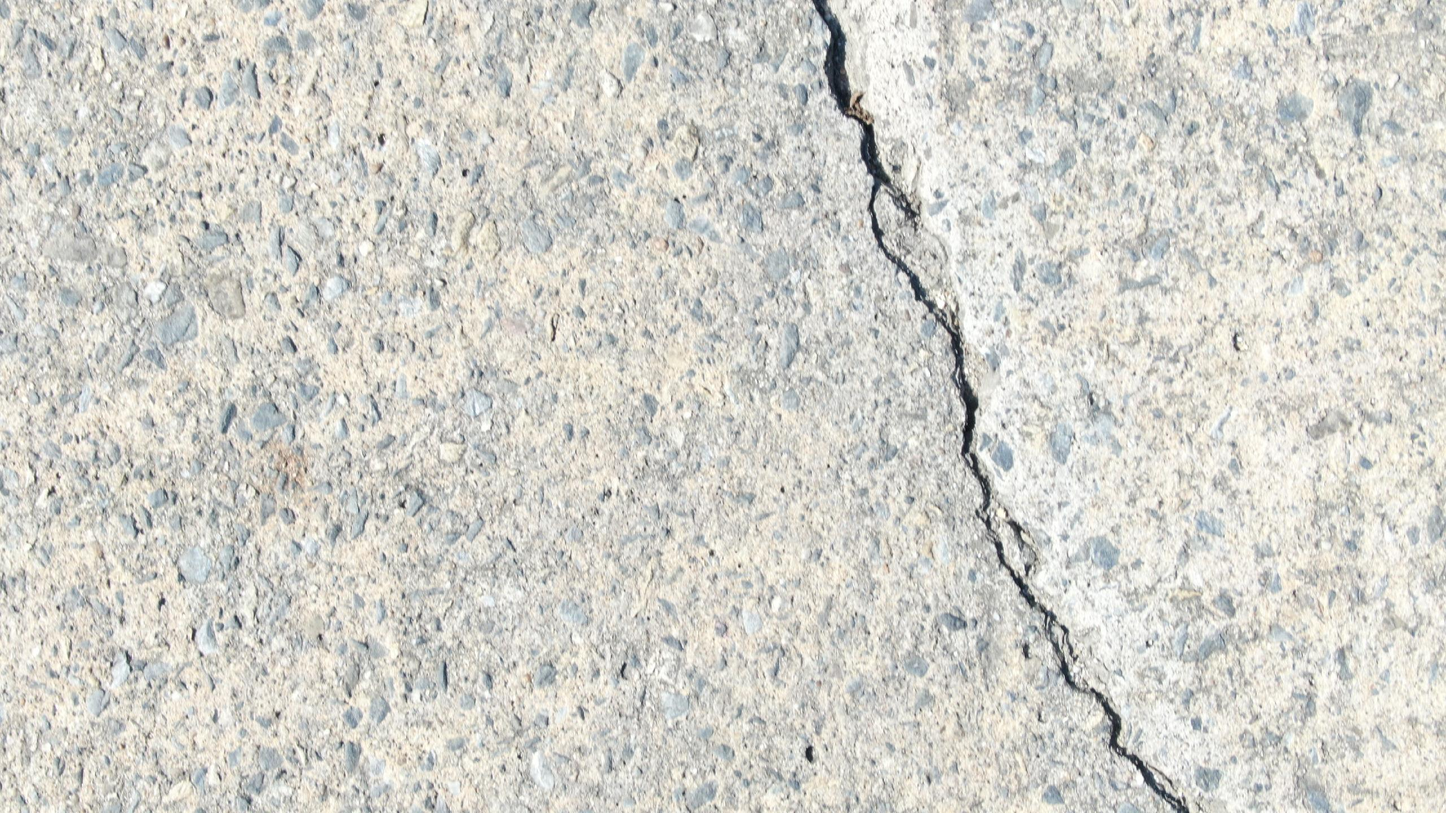crack: (808, 0, 1189, 812)
